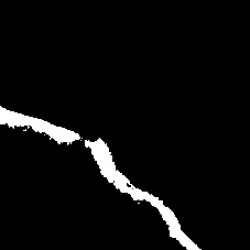crack: (2, 107, 202, 250)
